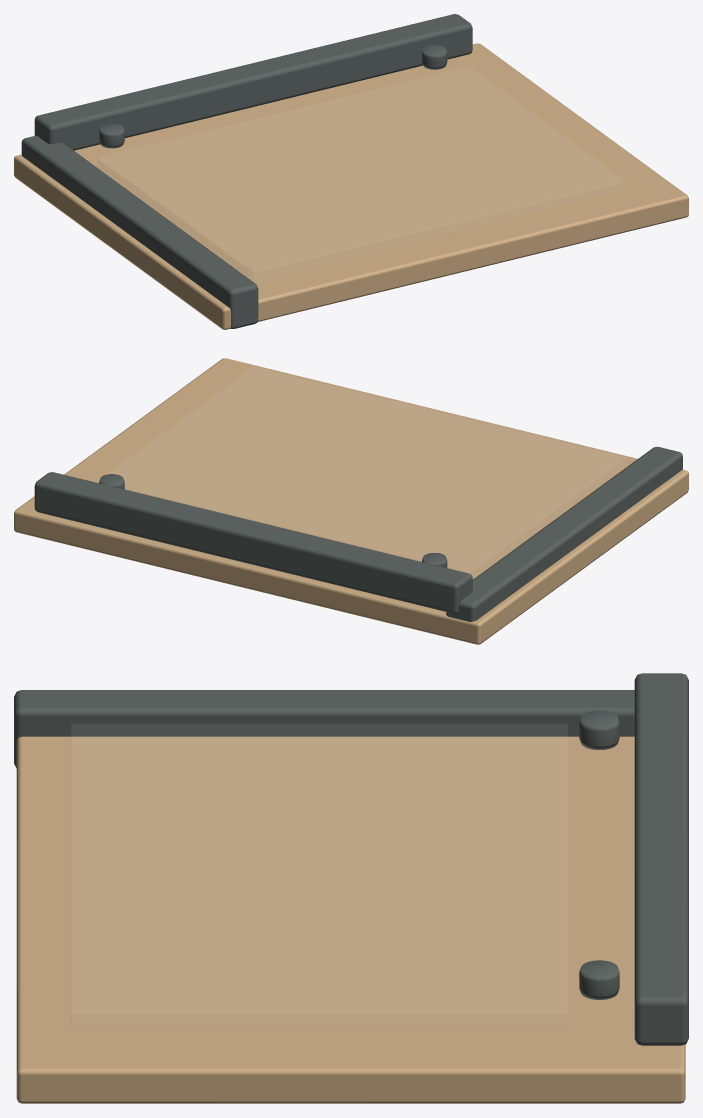
File: public-library-and-reading-garden-public-library-and-r-b2436f0b__30937.glb
3 renders of one model, top to bottom at view 1: azimuth 30°, elevation 25°; view 2: azimuth 150°, elevation 25°; view 3: azimuth 270°, elevation 25°, orthographic. The views are drawn at different scales.
Parts seen in each view (by area): view 1: public-library-and-reading-garden-protective-book-jacket-jig (×2); view 2: public-library-and-reading-garden-protective-book-jacket-jig (×2); view 3: public-library-and-reading-garden-protective-book-jacket-jig (×2).
Boxes of the visible parts, x1,y1,x2,y2 form: public-library-and-reading-garden-protective-book-jacket-jig (×2): [14, 14, 688, 329]; public-library-and-reading-garden-protective-book-jacket-jig (×2): [14, 358, 688, 644]; public-library-and-reading-garden-protective-book-jacket-jig (×2): [14, 673, 688, 1103].
Size of the model in its own units: 0.55 by 0.065 by 0.4337.
